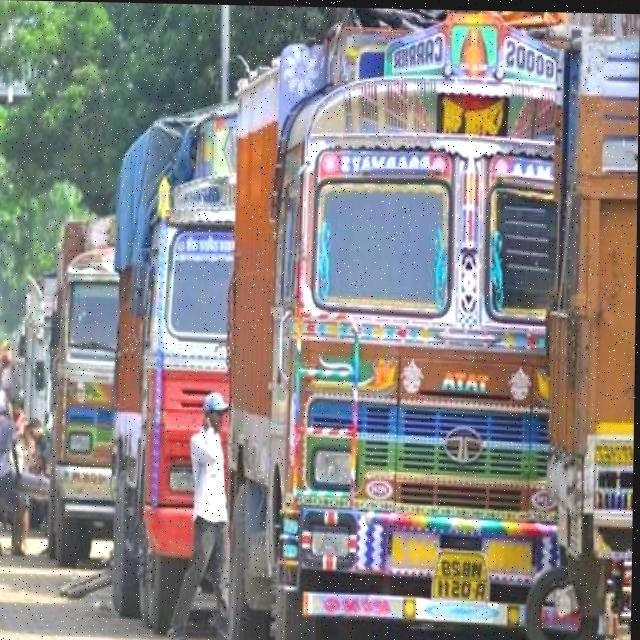plate: (432, 548, 493, 605)
